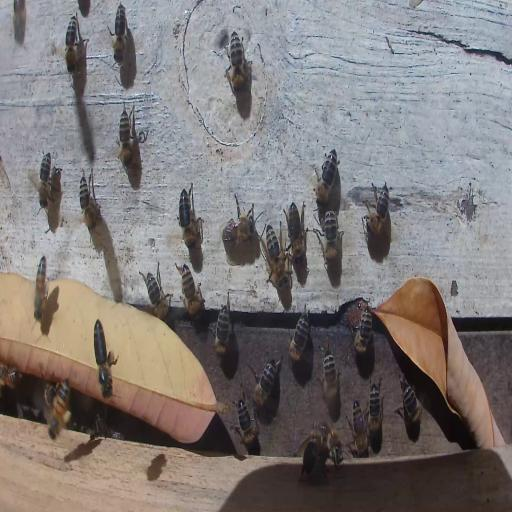bee: (92, 314, 120, 401), (249, 354, 281, 410), (264, 225, 290, 292), (142, 264, 171, 318), (46, 379, 72, 439), (364, 180, 392, 234), (178, 183, 200, 250), (79, 170, 102, 234), (310, 420, 342, 466), (314, 148, 338, 208), (287, 200, 308, 268), (31, 253, 51, 323), (288, 304, 312, 362), (350, 303, 374, 361), (208, 295, 231, 354), (178, 263, 202, 319), (236, 397, 259, 454), (222, 214, 258, 250), (320, 206, 341, 266), (398, 379, 422, 431), (118, 103, 134, 175), (228, 32, 246, 93), (299, 440, 325, 482), (110, 3, 127, 65), (351, 398, 368, 458), (88, 413, 122, 443), (368, 378, 384, 439), (322, 350, 338, 400), (38, 150, 52, 207), (65, 12, 77, 76), (12, 0, 27, 46), (0, 366, 20, 388), (16, 404, 41, 418)
